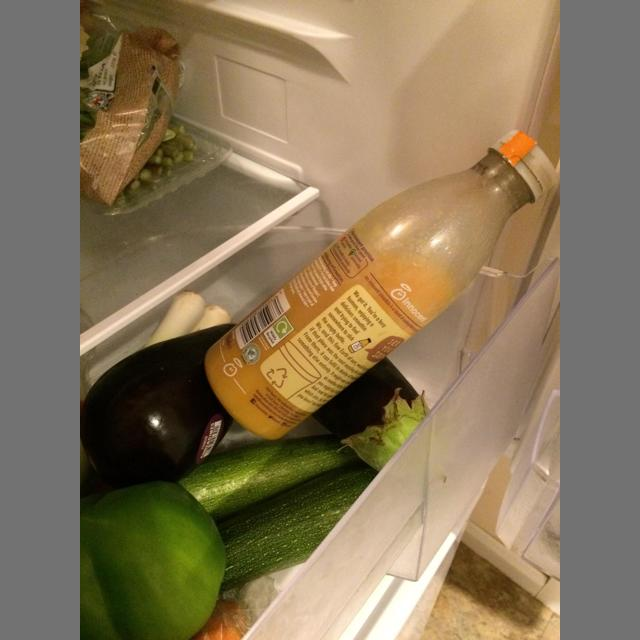litter: (204, 128, 559, 440), (80, 0, 186, 208), (80, 115, 232, 215), (497, 128, 559, 194)
